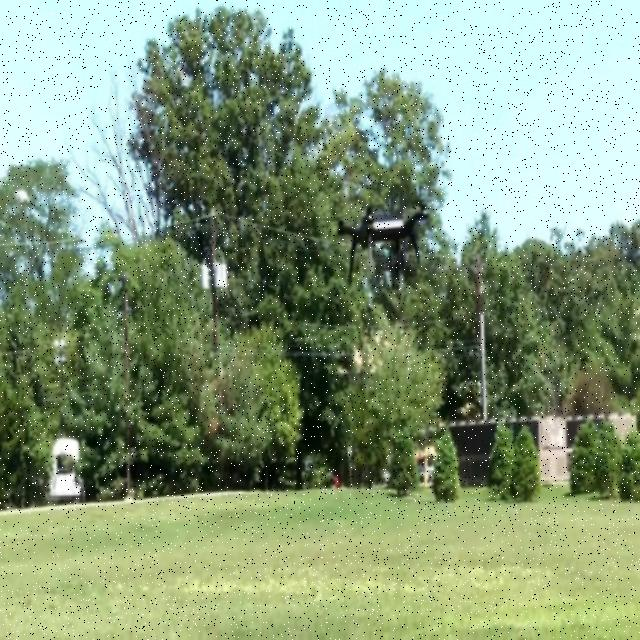UAV: (338, 199, 430, 291)
